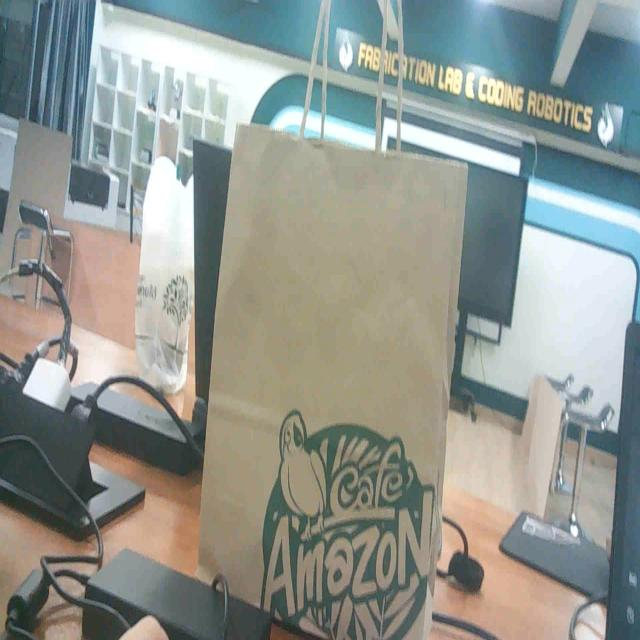bag: (195, 117, 461, 640)
